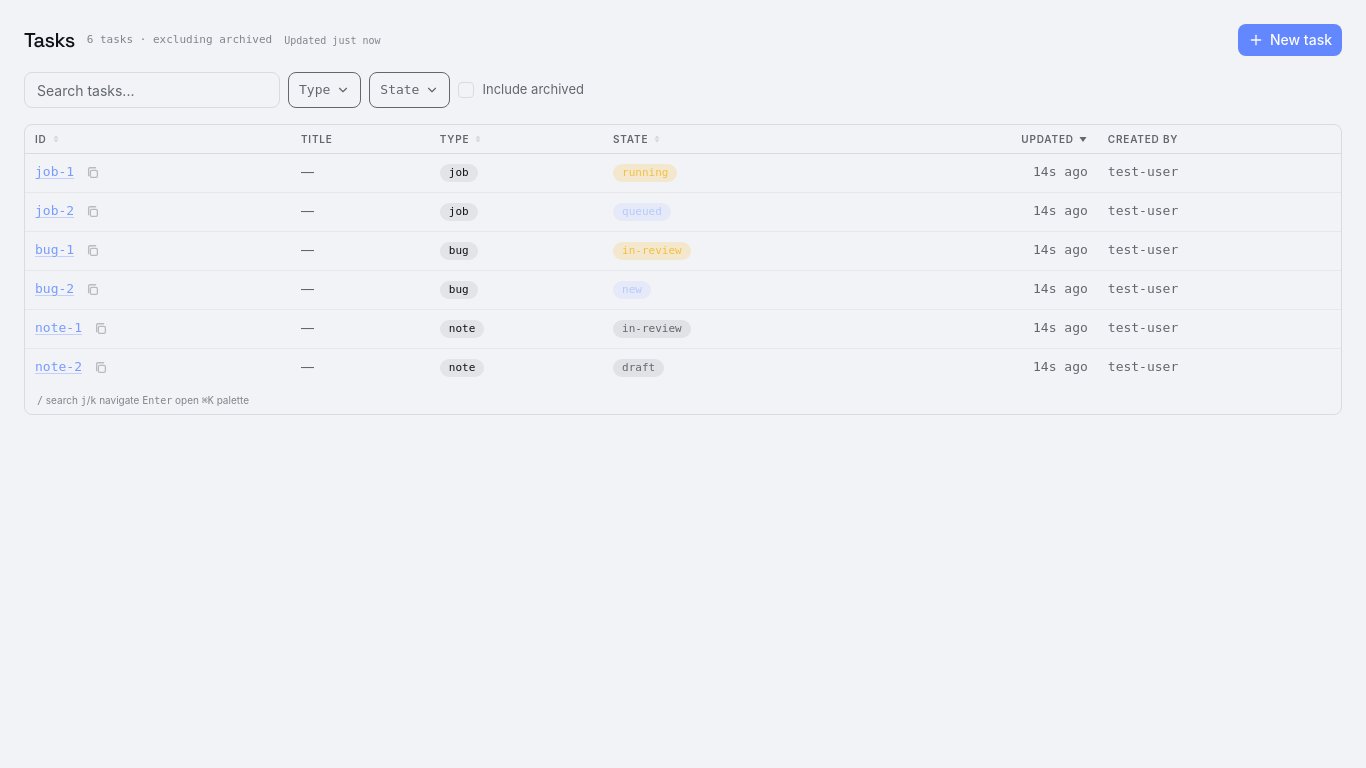
Scenario: TasksPage state filter and sort › filters server-side across types and keeps the column in agreement
expect the link "job-1" is shown: met, box [35,163,74,182]
Click the button "State".
click(410, 90)  # box [369,72,450,108]
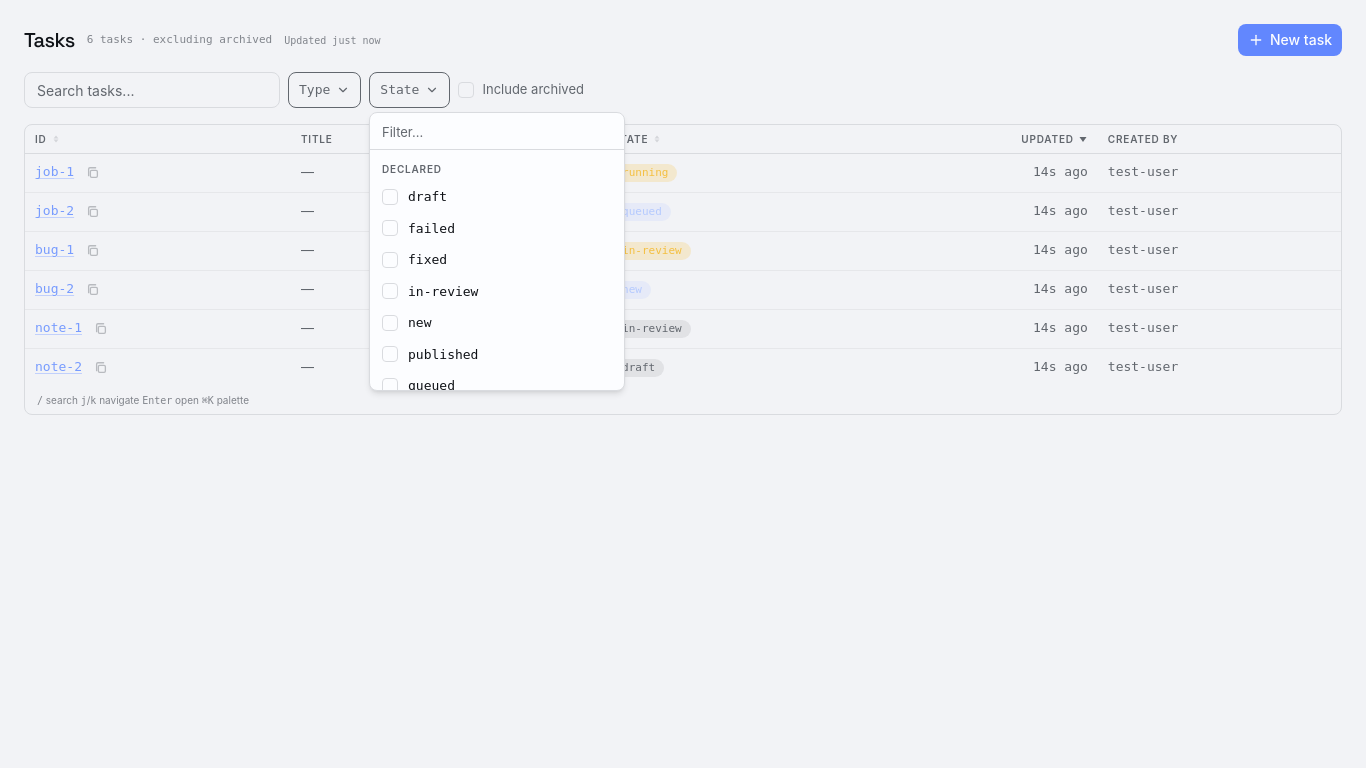
Click the 5th checkbox named "in-review".
click(390, 291)  # box [382,283,398,299]
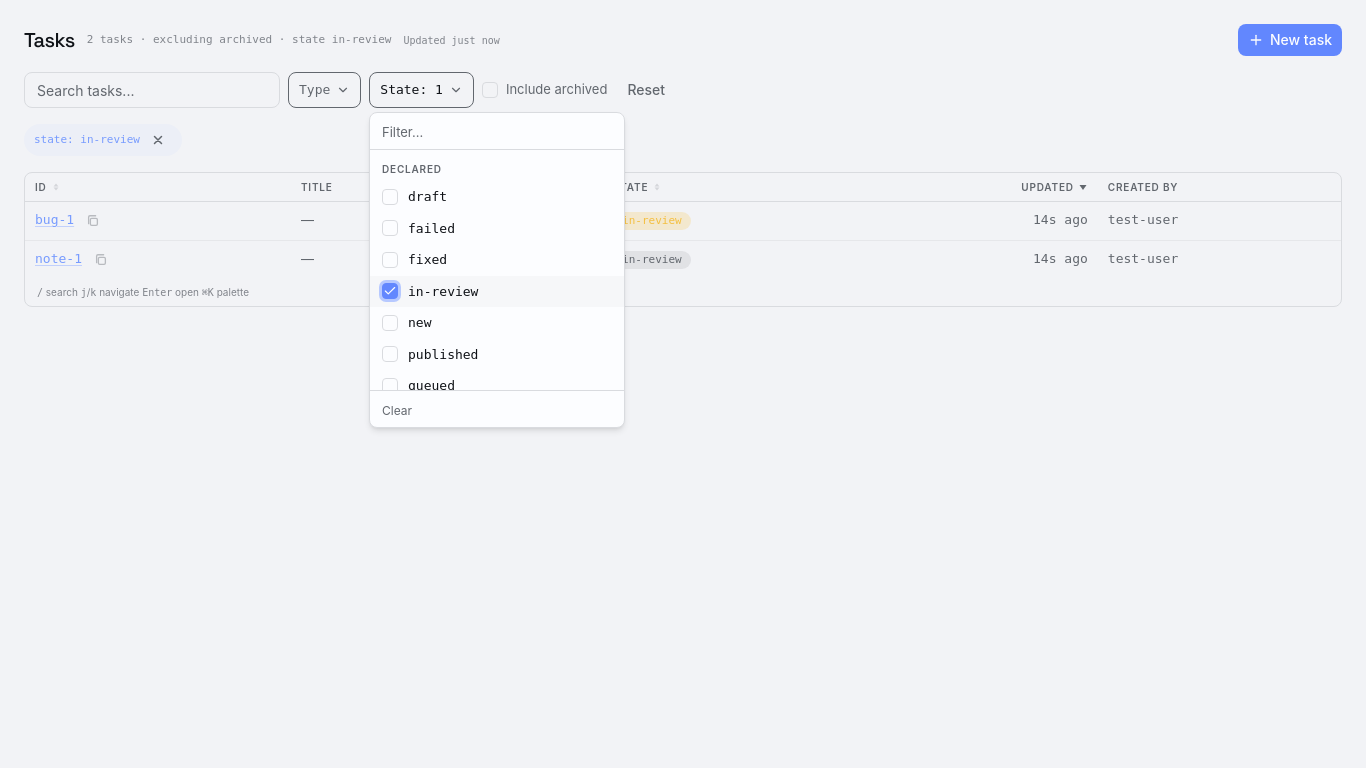
expect the link "job-1" is gone: met
expect the link "bug-2" is gone: met
expect the text "2 tasks · excluding archived · state in-review" is shown: met, box [87,32,391,48]
